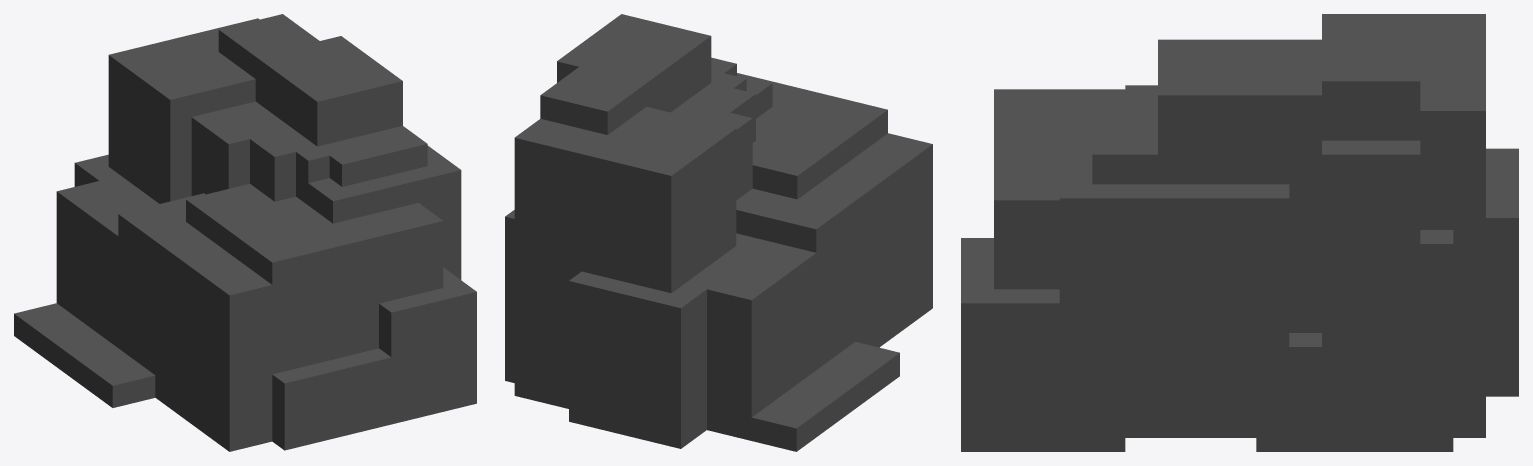
File: rock.obj
The picture shows the model from 3 angles, left to right: view 1: azimuth 30°, elevation 25°; view 2: azimuth 150°, elevation 25°; view 3: azimuth 270°, elevation 25°; orthographic projection. The views are drawn at different scales.
Bounding box in the file's own units: 1.4 × 1.2 × 1.7.
Materials: 1 (1 with a texture image).
